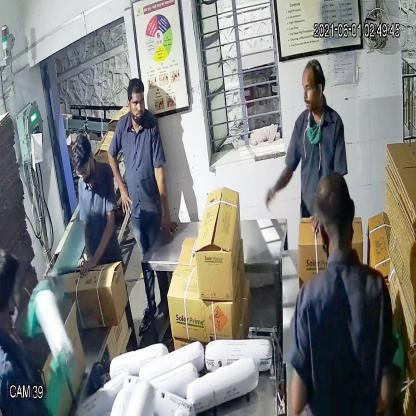goggles: (74, 156, 94, 181)
no_goggles: (298, 77, 326, 99)
